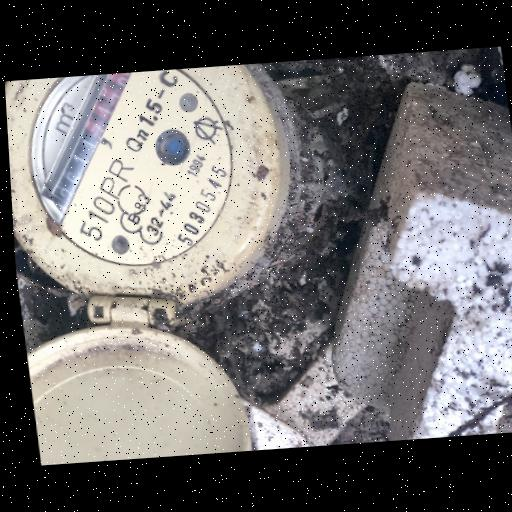0: (104, 73, 134, 93)
1: (65, 145, 96, 174), (73, 129, 103, 157), (90, 98, 118, 124)
2: (50, 179, 79, 206)
6: (57, 164, 86, 192), (97, 81, 125, 108)
7: (81, 113, 111, 142)
border_water_meter_number: (24, 73, 150, 211)
